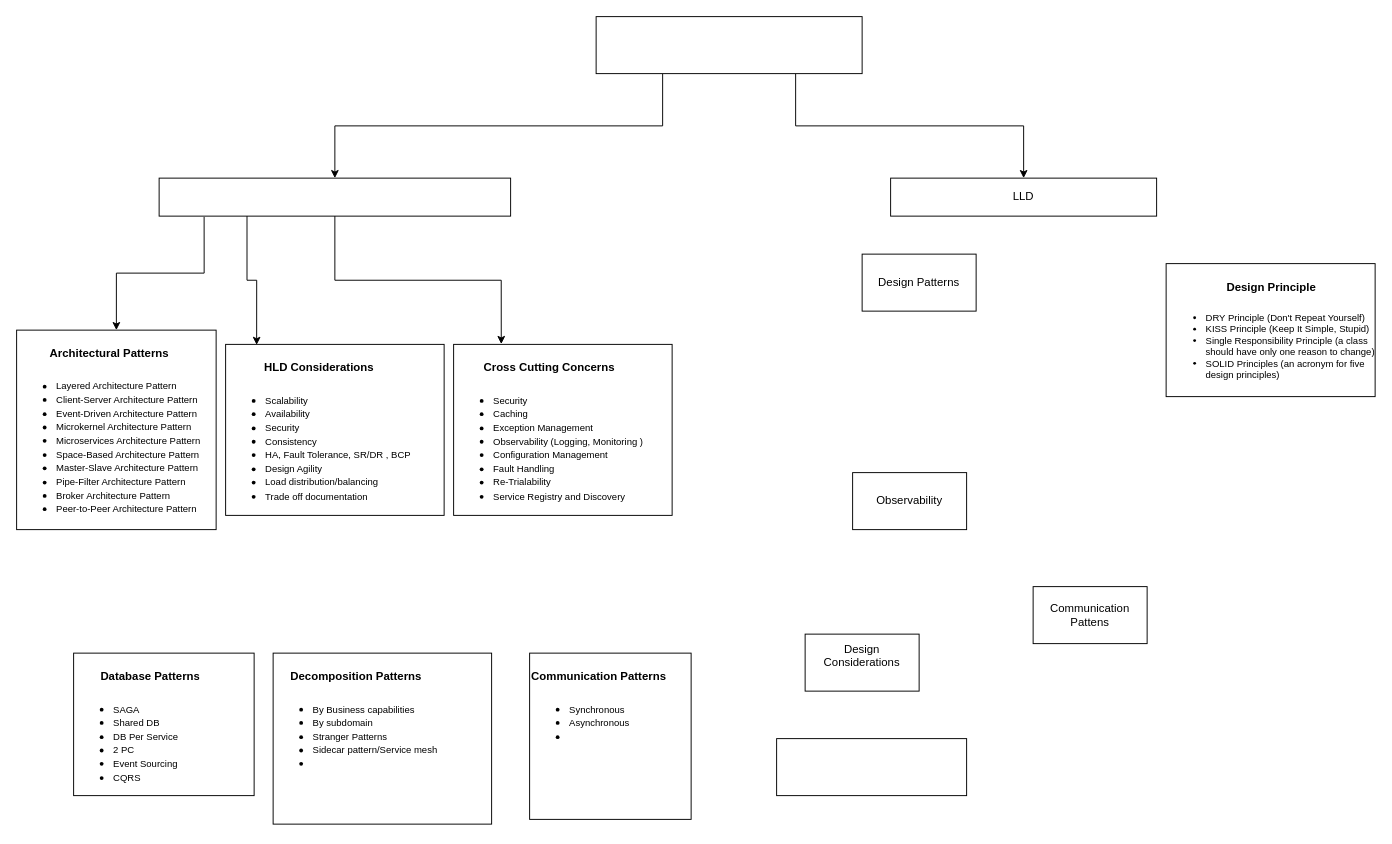
The diagram is 1392 pixels wide and 844 high, and some of its shapes have lost their labels. The shapes that lost their labels are listed below. From the top down, each one's centre as x and y in pixels, then its label:
At point (728, 45): "Design".
At point (334, 196): "HLD".
At point (871, 767): "Event Driven Architecture".
